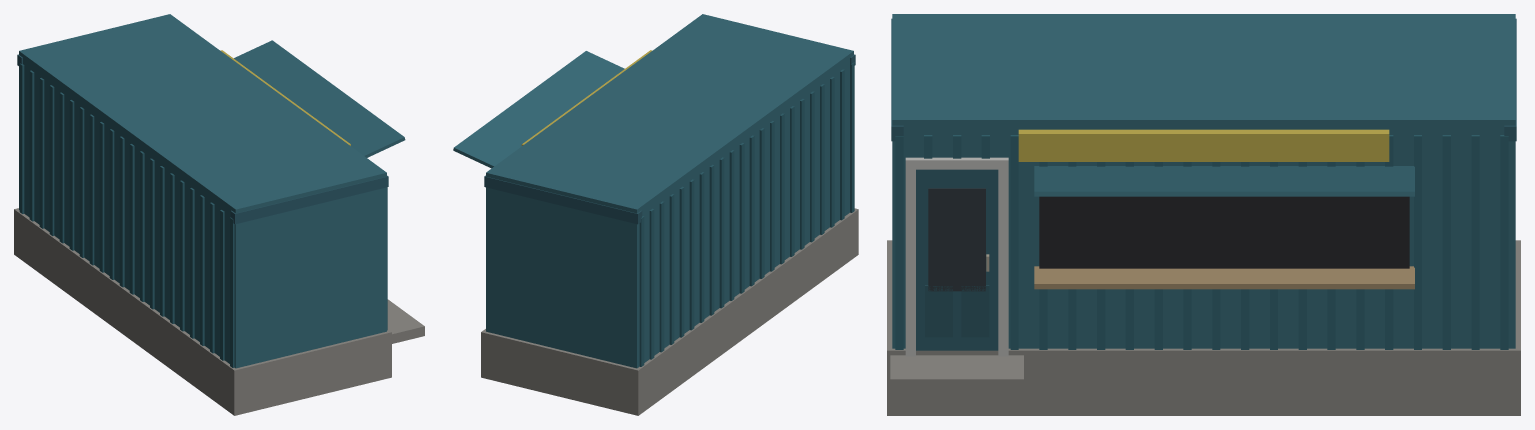
File: SM_Prop_cafe_building_2.glb
3 views of the same model, side by side, from view 1: azimuth 30°, elevation 25°; view 2: azimuth 150°, elevation 25°; view 3: azimuth 270°, elevation 25° (orthographic). The views are drawn at different scales.
Parts seen in each view (by area): view 1: SM_Prop_cafe_building_2; view 2: SM_Prop_cafe_building_2; view 3: SM_Prop_cafe_building_2.
Boxes of the visible parts, x1,y1,x2,y2 form: SM_Prop_cafe_building_2: [14, 14, 424, 415]; SM_Prop_cafe_building_2: [453, 14, 858, 415]; SM_Prop_cafe_building_2: [887, 14, 1520, 415].
Bounding box in the file's own units: 3.58 × 3.15 × 6.16.
